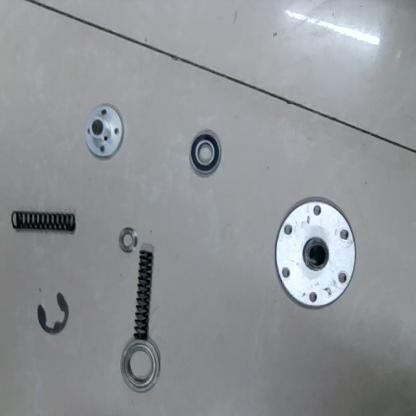FOD: (0, 0, 415, 415), (272, 194, 362, 312), (82, 102, 125, 165), (118, 339, 164, 393), (130, 247, 156, 342), (8, 207, 78, 237), (32, 290, 71, 340), (187, 128, 224, 180), (117, 225, 139, 256)
